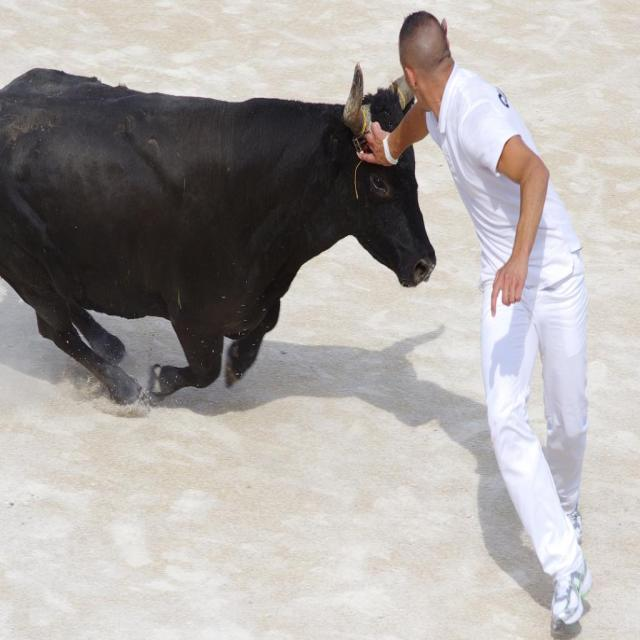Cattle: (0, 18, 447, 414)
